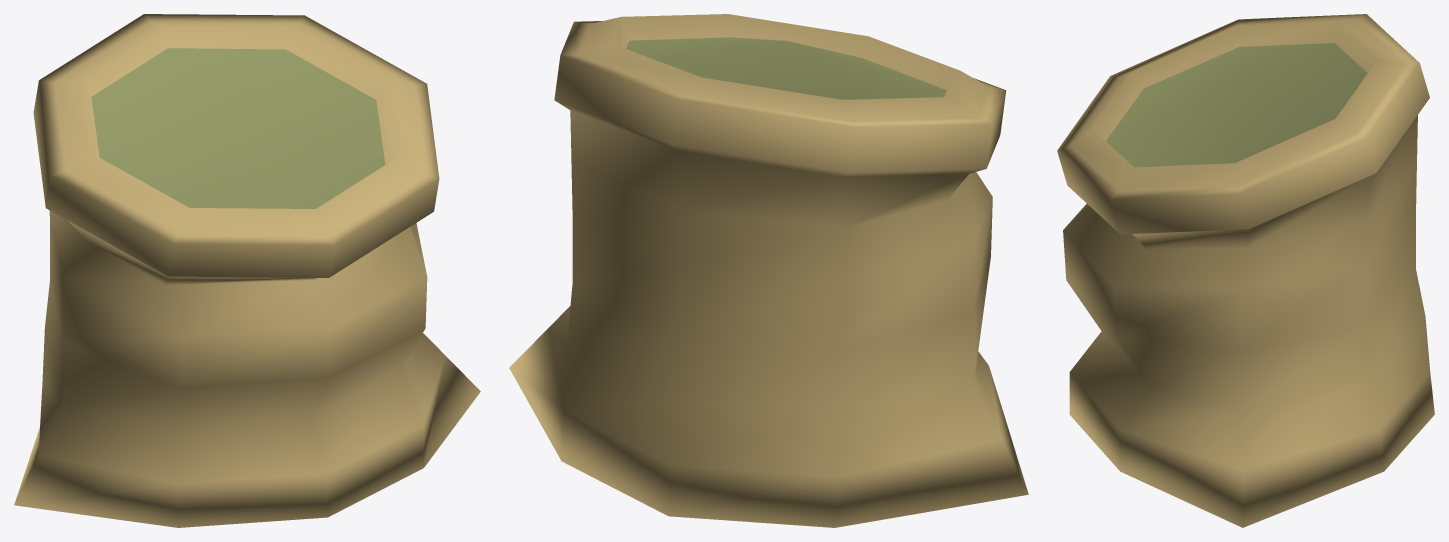
Rendered from SM_Potato_Bag_02.fbx.
3 renders of one model, left to right at view 1: azimuth 30°, elevation 25°; view 2: azimuth 150°, elevation 25°; view 3: azimuth 270°, elevation 25°, orthographic. The views are drawn at different scales.
Parts seen in each view (by area): view 1: Potato_Bag_02; view 2: Potato_Bag_02; view 3: Potato_Bag_02.
Boxes of the visible parts, box(x1,y1,x2,y2) form: Potato_Bag_02: box(14, 14, 480, 527); Potato_Bag_02: box(509, 14, 1028, 527); Potato_Bag_02: box(1057, 14, 1434, 527).
Bounding box in the file's own units: 43.35 × 33 × 31.89.
